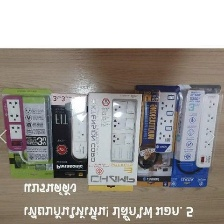book: (162, 81, 224, 191), (84, 90, 144, 194), (127, 82, 183, 189), (0, 86, 54, 180), (48, 90, 91, 181)
three_eye_plug: (191, 90, 221, 170), (105, 96, 140, 164), (152, 88, 178, 154), (0, 93, 27, 153), (67, 94, 88, 161)
